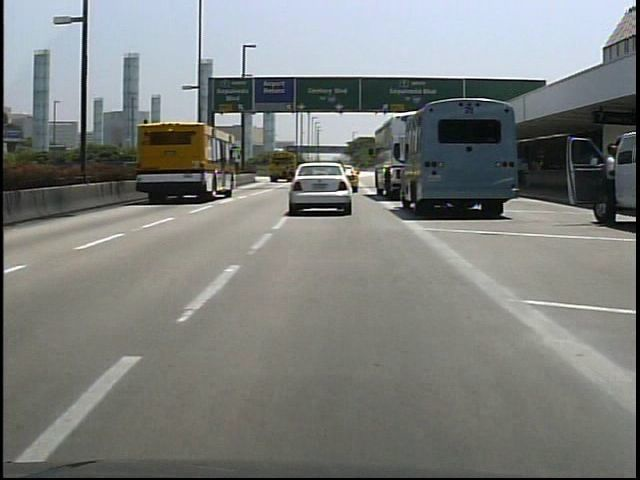person: (589, 139, 616, 229)
